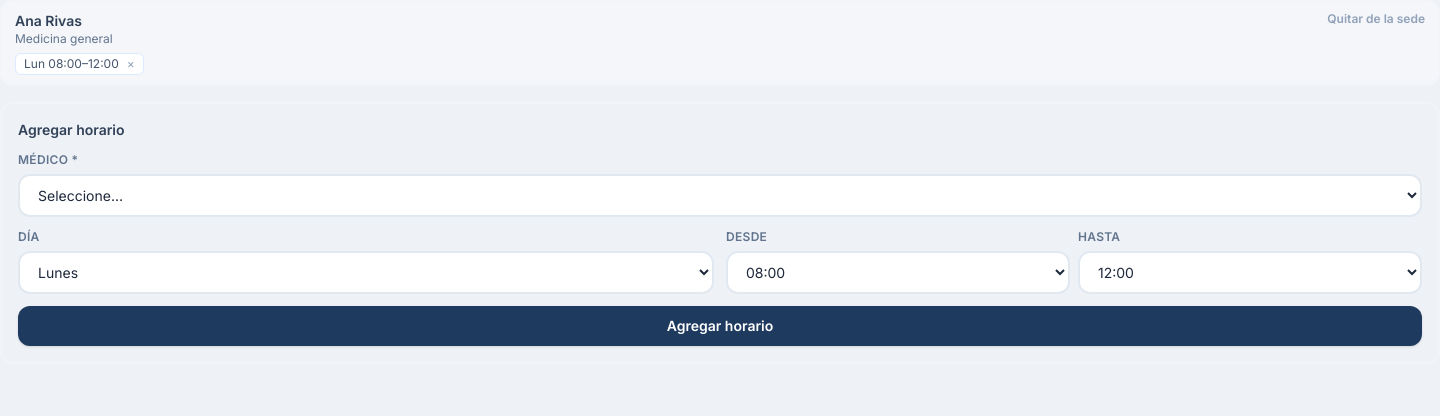
Test: médicos de la sede (HU-29) › c2: un traslape lo rechaza el backend y se muestra su mensaje
Select "Ana Rivas" in the dropdown labelled "Médico *" at (720, 196), box x1=18 y1=174 x2=1422 y2=217
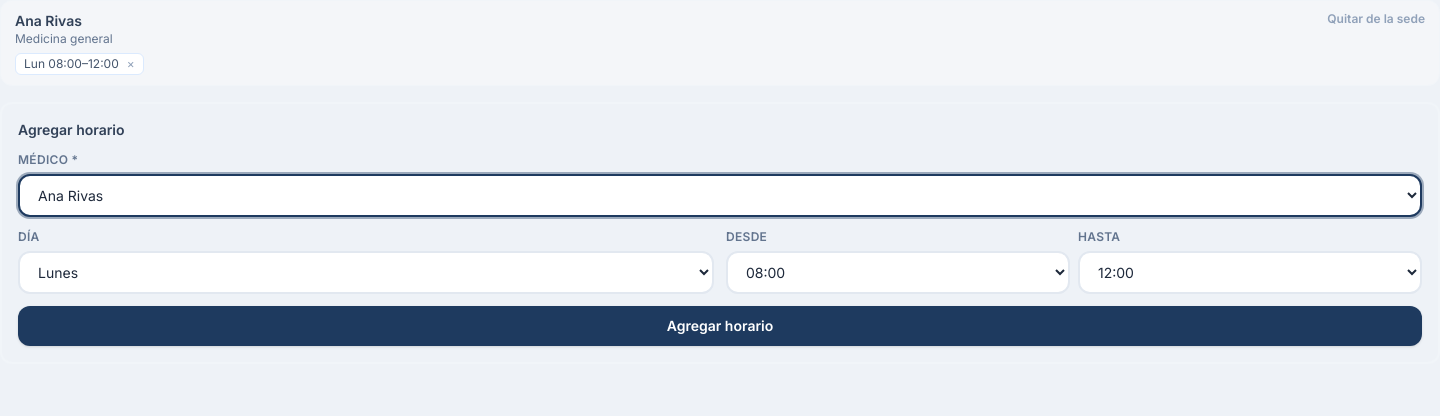
Click the button "Agregar horario" at (720, 326), box x1=18 y1=306 x2=1422 y2=346
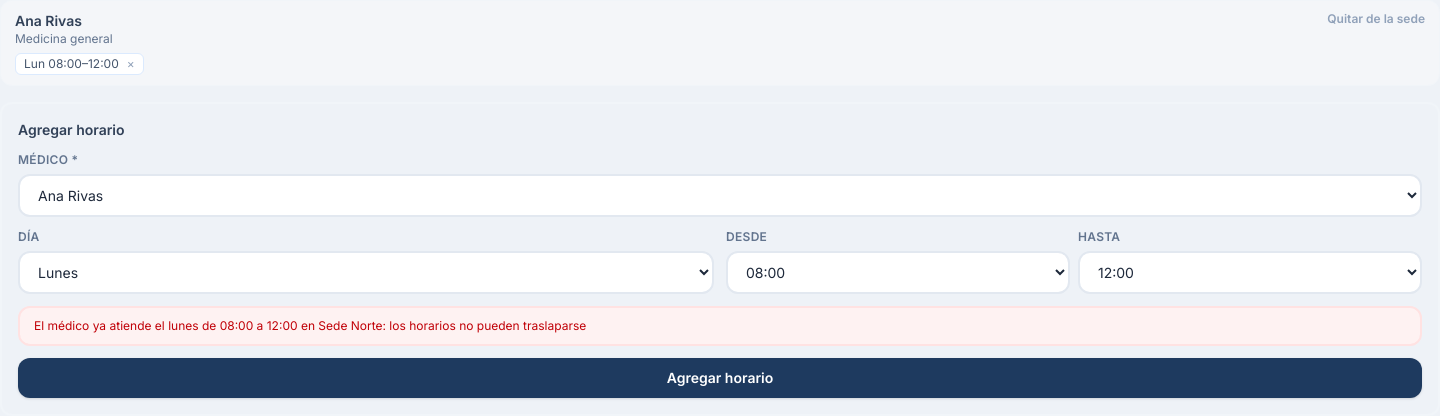
Expected: the message shows "ya atiende el lunes de 08:00 a 12:00 en Sede Norte", x1=34 y1=318 x2=586 y2=333
